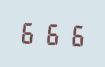six: (18, 18, 39, 46), (41, 19, 62, 47), (63, 20, 84, 48)
